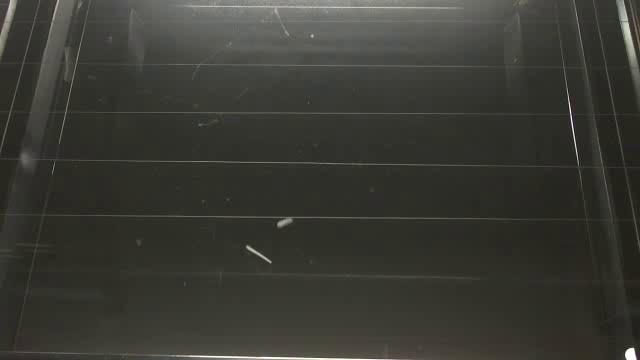Alfa: (242, 243, 273, 266), (276, 216, 293, 230)
